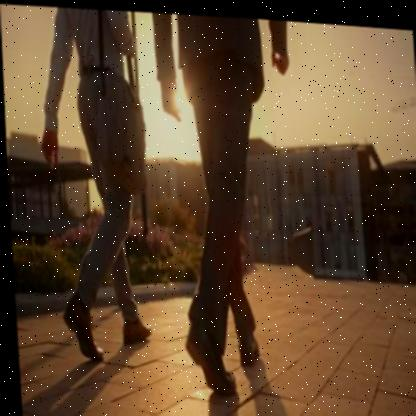person: (156, 12, 318, 412), (26, 3, 166, 384)
